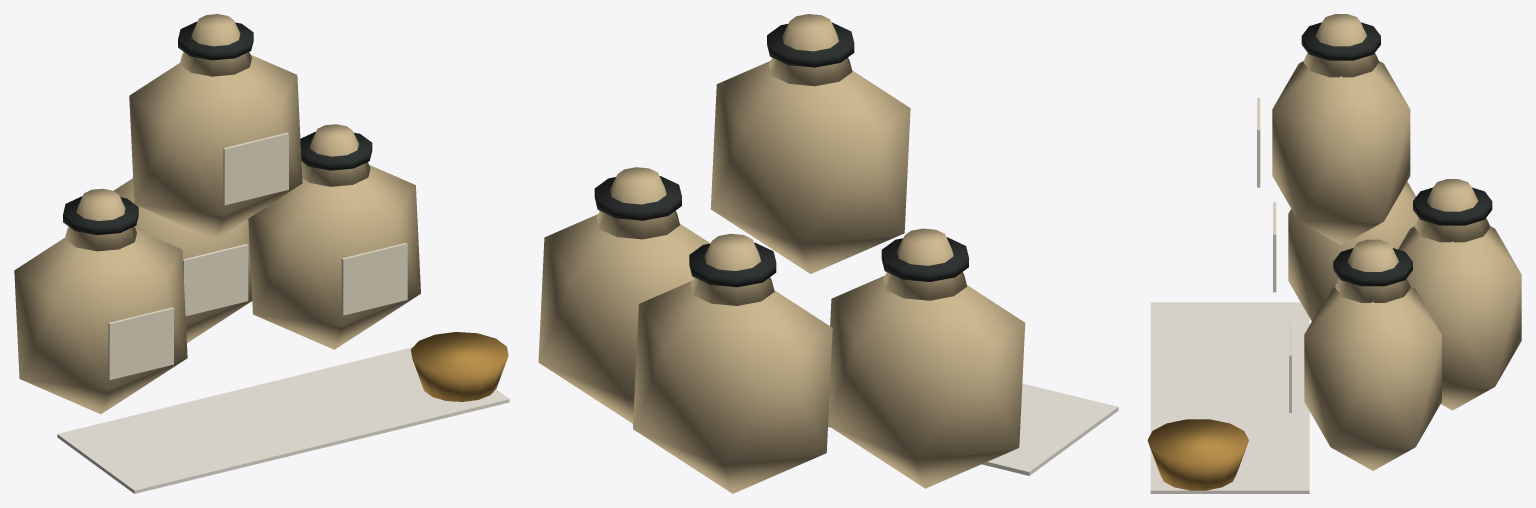
The picture shows the model from 3 angles, left to right: view 1: azimuth 30°, elevation 25°; view 2: azimuth 150°, elevation 25°; view 3: azimuth 270°, elevation 25°; orthographic projection. The views are drawn at different scales.
Visible parts, largest first — view 1: shop_sack, shop_flour, shop_paper, shop_brass, shop_ink; view 2: shop_sack, shop_ink, shop_flour; view 3: shop_sack, shop_flour, shop_brass, shop_ink, shop_paper.
Boxes of the visible parts, x1=… form: shop_sack: x1=14, y1=14, x2=420, y2=414; shop_flour: x1=57, y1=347, x2=509, y2=493; shop_paper: x1=108, y1=132, x2=407, y2=379; shop_brass: x1=411, y1=332, x2=508, y2=401; shop_ink: x1=63, y1=21, x2=372, y2=235; shop_sack: x1=538, y1=14, x2=1025, y2=493; shop_ink: x1=594, y1=22, x2=968, y2=287; shop_flour: x1=828, y1=383, x2=1118, y2=475; shop_sack: x1=1272, y1=14, x2=1521, y2=470; shop_flour: x1=1150, y1=302, x2=1309, y2=493; shop_brass: x1=1147, y1=419, x2=1248, y2=490; shop_ink: x1=1301, y1=22, x2=1492, y2=286; shop_paper: x1=1257, y1=97, x2=1291, y2=412.
Size of the model in its own units: 1.51 by 1.33 by 1.18.
